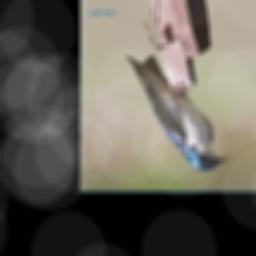Swallow: (124, 53, 227, 172)
